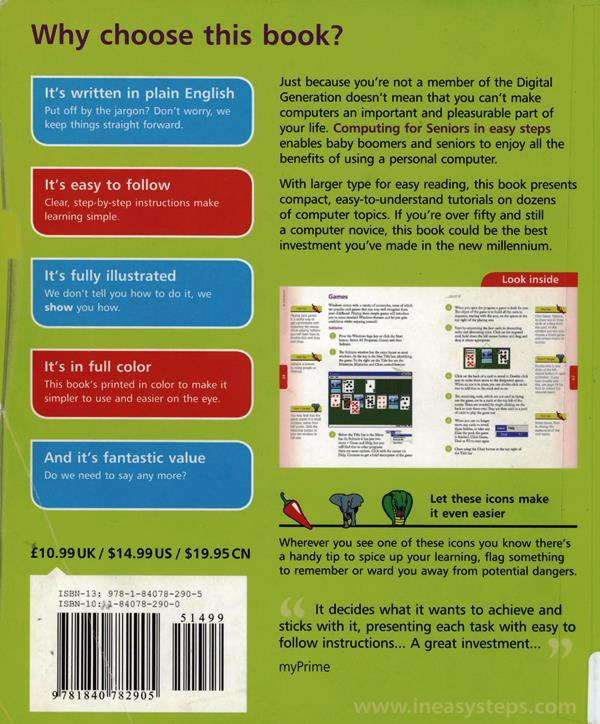barcode: (45, 606, 235, 705)
